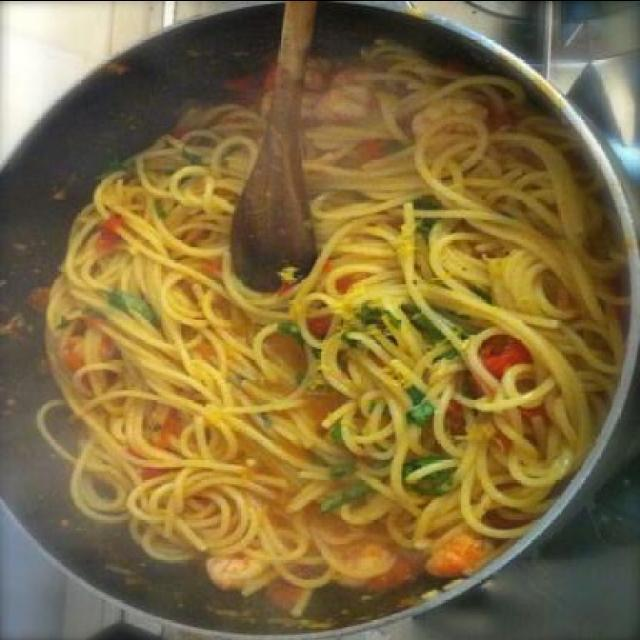Oil pasta: (38, 18, 590, 614)
